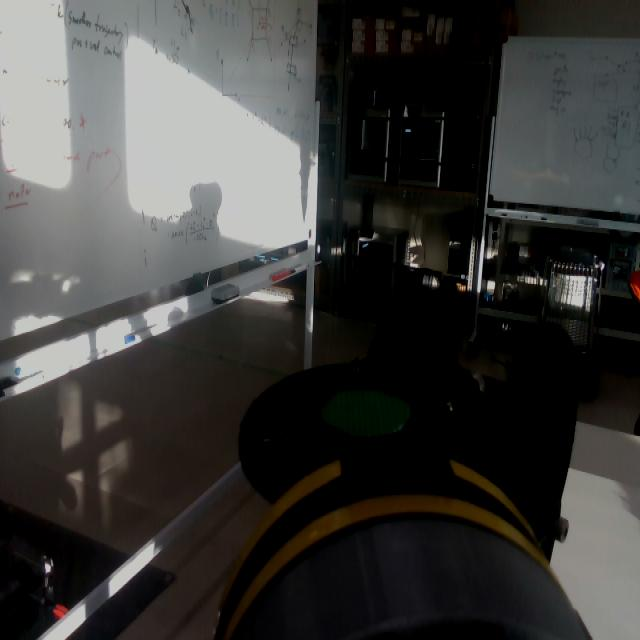body_connector: (234, 516, 593, 640)
connection: (212, 447, 594, 640)
leg: (214, 288, 580, 640)
leg_connector: (214, 447, 555, 640)
marker: (321, 385, 412, 439)
